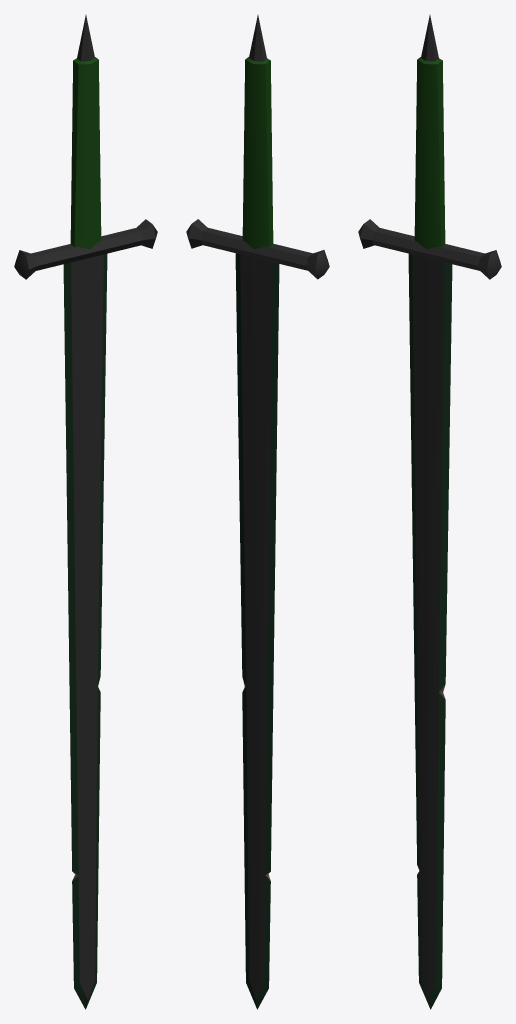
Rendered from PT_Longsword_01_a.glb.
The picture shows the model from 3 angles, left to right: view 1: azimuth 30°, elevation 25°; view 2: azimuth 150°, elevation 25°; view 3: azimuth 330°, elevation 25°; orthographic projection.
Parts seen in each view (by area): view 1: PT_Longsword_01_a; view 2: PT_Longsword_01_a; view 3: PT_Longsword_01_a.
Boxes of the visible parts, left/top/right/bottom form: PT_Longsword_01_a: left=14, top=15, right=157, bottom=1009; PT_Longsword_01_a: left=186, top=15, right=329, bottom=1009; PT_Longsword_01_a: left=358, top=15, right=501, bottom=1009.
Size of the model in its own units: 0.2403 by 1.59 by 0.0373.
1 material, 1 textured.
